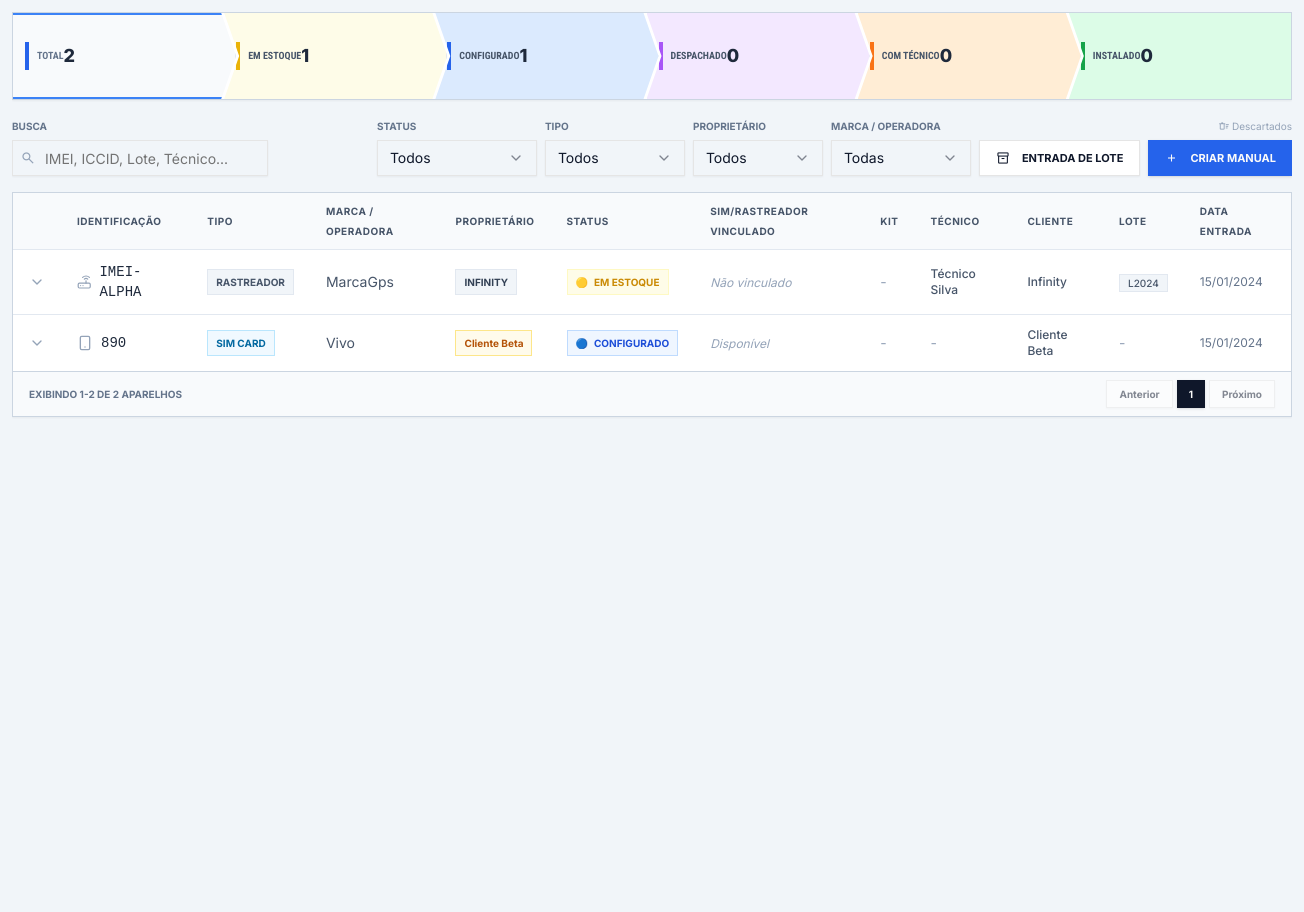
Test case: AparelhosPage (fluxo integrado) › linha expandida some do DOM se o filtro remove esse aparelho
The width and height of the screenshot is (1304, 912).
Click the row with test id "aparelho-row-1": (652,282) top-left (13, 250), bottom-right (1291, 314)
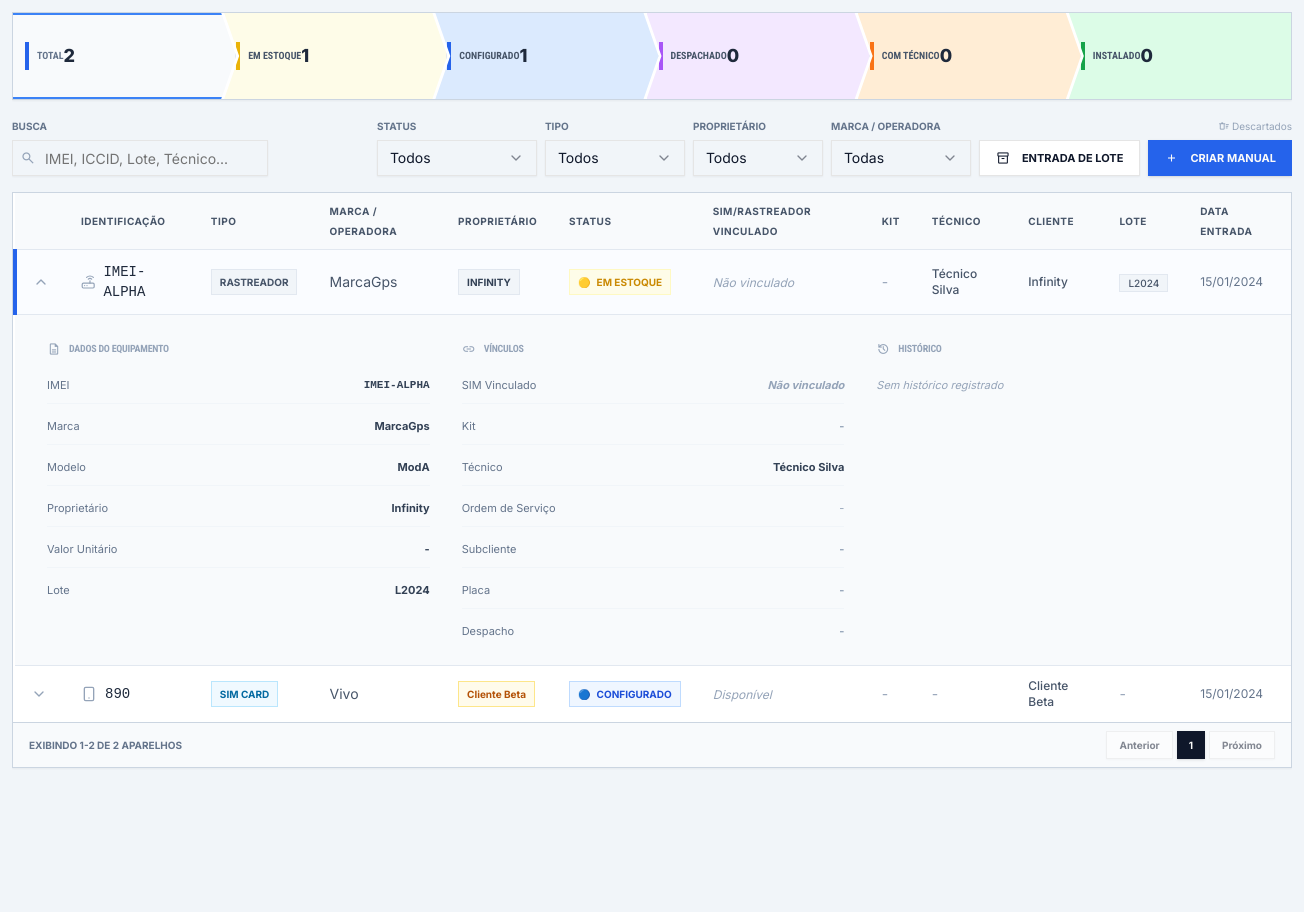
Expected: the element with test id "aparelho-expanded-1" is shown, top-left (15, 315), bottom-right (1291, 665)
Click the button with test id "aparelhos-status-configurado": (547,56) top-left (435, 13), bottom-right (658, 99)
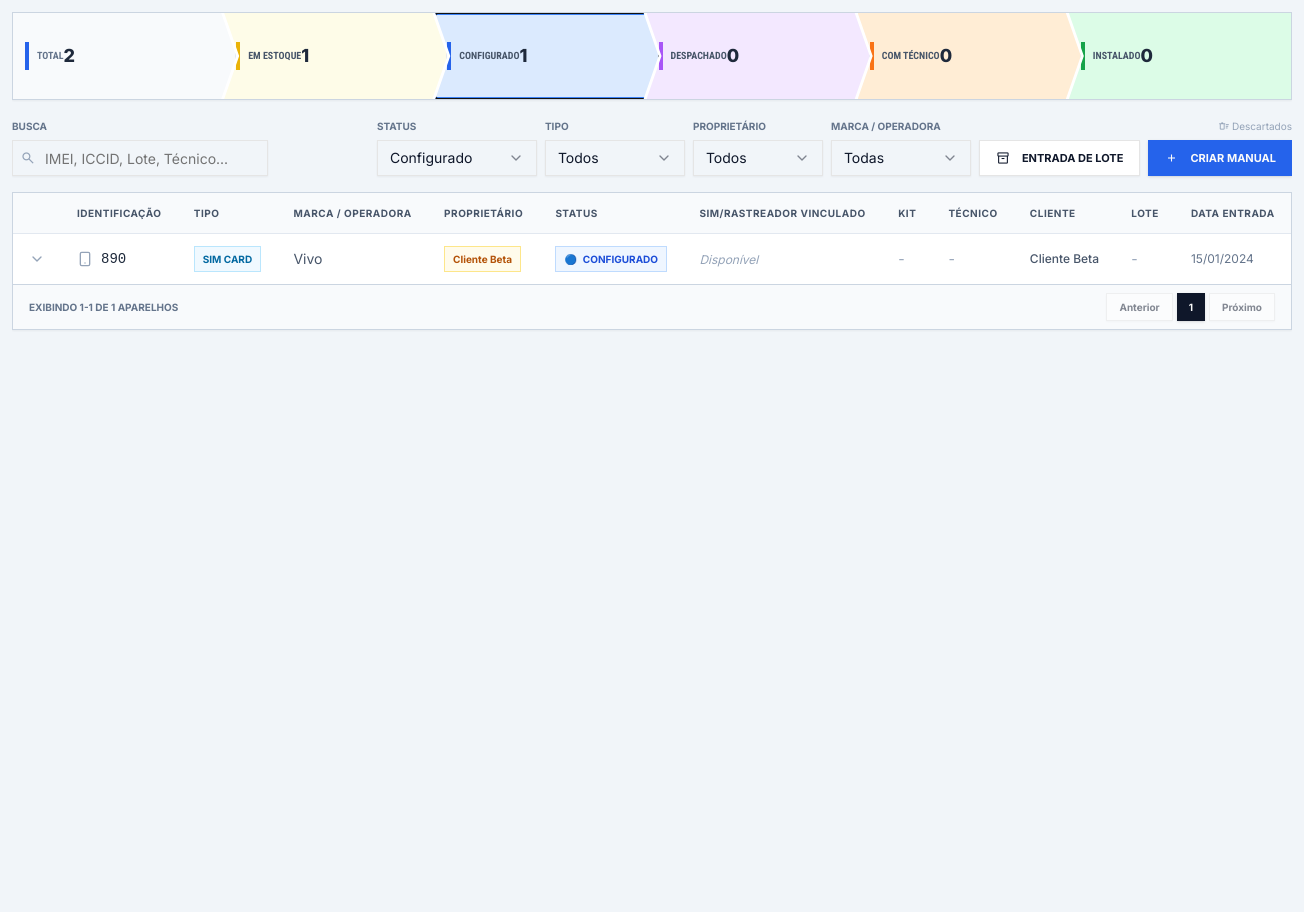
Expected: the element with test id "aparelho-expanded-1" is gone
